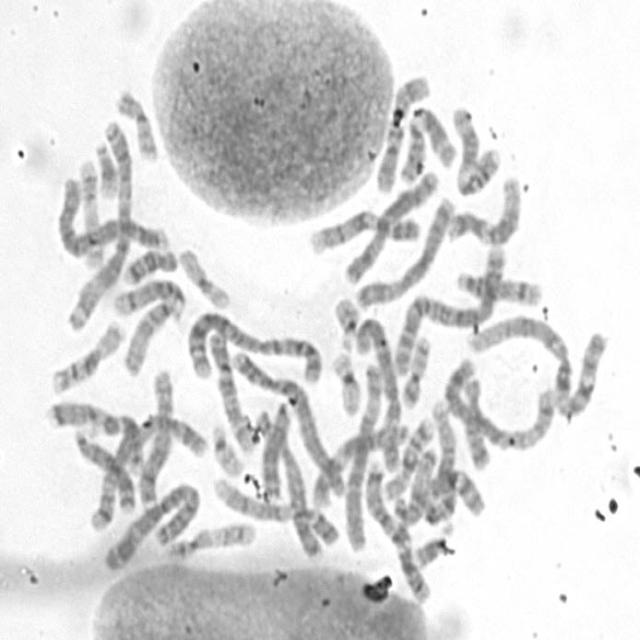A1: (464, 310, 608, 418), (423, 393, 488, 528)
A2: (390, 240, 509, 380), (180, 305, 324, 385)
A3: (63, 113, 137, 334), (99, 476, 203, 574)
B4: (227, 343, 351, 501), (54, 172, 170, 257)
B5: (87, 406, 211, 532), (440, 352, 558, 453)
C10: (372, 69, 432, 195), (205, 328, 256, 456)
C11: (396, 100, 460, 186), (447, 100, 502, 198)
C12: (308, 418, 411, 508), (444, 172, 524, 245)
C6: (339, 357, 384, 555), (352, 313, 402, 475)
C7: (362, 454, 434, 604), (42, 395, 146, 475)
C8: (250, 400, 324, 562), (136, 366, 176, 508)
C9: (208, 472, 342, 548), (304, 204, 424, 257)
D13: (70, 424, 138, 515), (258, 397, 294, 505)
D14: (454, 265, 546, 308), (110, 273, 188, 319)
D15: (119, 293, 177, 379), (389, 444, 439, 528)
E16: (47, 315, 128, 396), (380, 412, 438, 502)
E17: (163, 516, 258, 560), (76, 153, 106, 271)
E18: (460, 374, 492, 471), (119, 243, 179, 287)
F19: (175, 242, 232, 310), (328, 346, 364, 417)
F20: (111, 84, 160, 162), (398, 331, 432, 408)
G21: (410, 520, 456, 571), (91, 136, 120, 202)
G22: (208, 418, 246, 478), (331, 293, 361, 353)
X: (352, 190, 456, 312), (341, 162, 442, 286)
